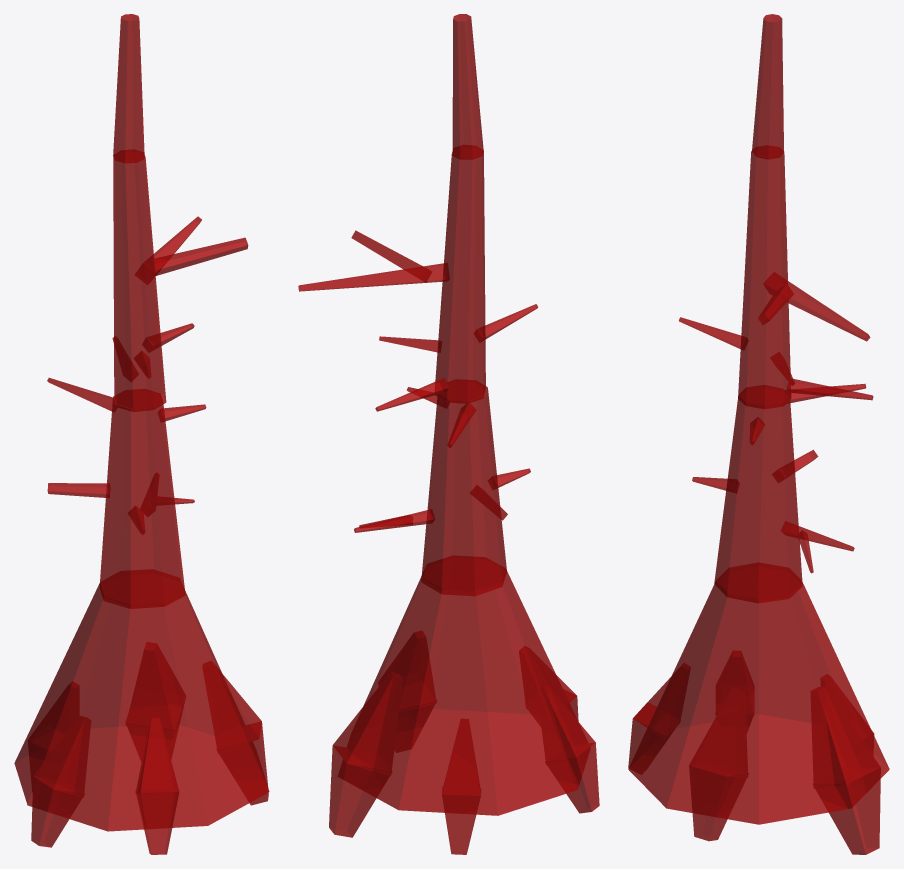
File: SM_Env_Tree_Swamp_02_Collision.fbx
The picture shows the model from 3 angles, left to right: view 1: azimuth 30°, elevation 25°; view 2: azimuth 150°, elevation 25°; view 3: azimuth 270°, elevation 25°; orthographic projection.
Parts seen in each view (by area): view 1: SM_Env_Tree_Swamp_02_Collision; view 2: SM_Env_Tree_Swamp_02_Collision; view 3: SM_Env_Tree_Swamp_02_Collision.
Boxes of the visible parts, bbox=[...] form: SM_Env_Tree_Swamp_02_Collision: bbox=[14, 14, 269, 854]; SM_Env_Tree_Swamp_02_Collision: bbox=[298, 14, 599, 854]; SM_Env_Tree_Swamp_02_Collision: bbox=[628, 14, 889, 854].
Bounding box in the file's own units: 396 × 1305 × 387.
